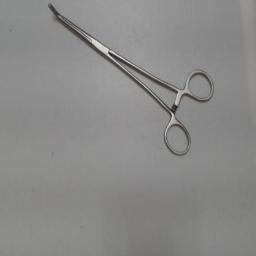Lahey Forceps: (44, 2, 218, 160)
